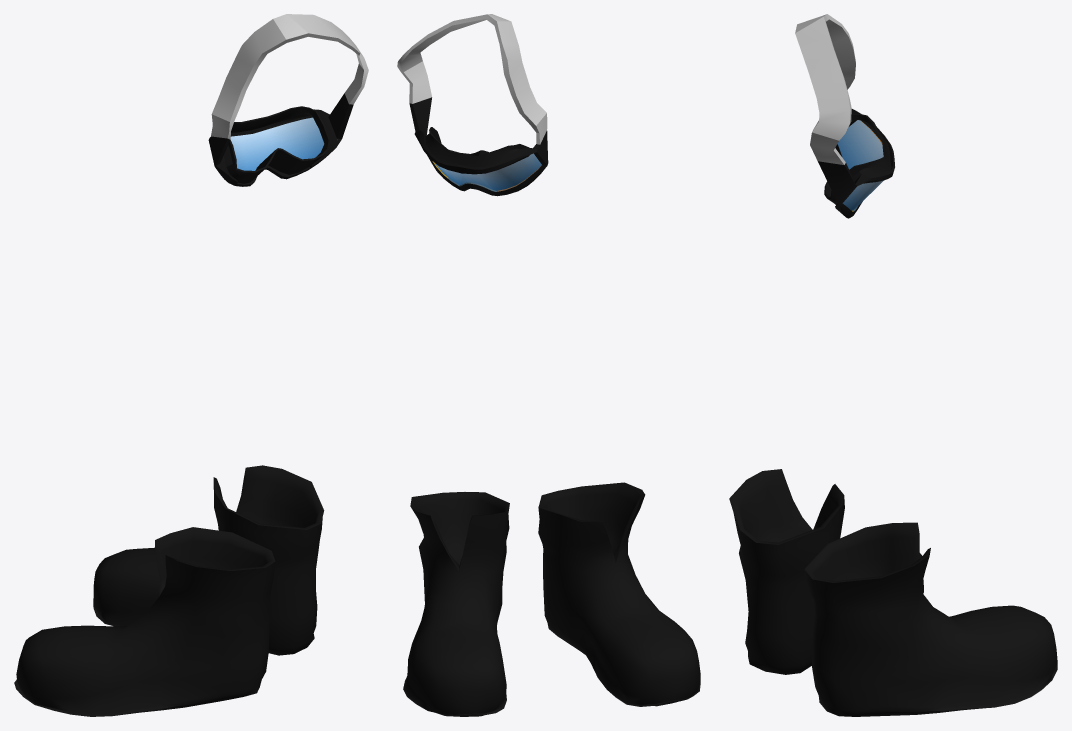
File: Room2_ExtraAssets.fbx
The picture shows the model from 3 angles, left to right: view 1: azimuth 30°, elevation 25°; view 2: azimuth 150°, elevation 25°; view 3: azimuth 270°, elevation 25°; orthographic projection. The views are drawn at different scales.
Parts seen in each view (by area): view 1: ArcticResearcher_NPC_00.002, goggleStrap; view 2: ArcticResearcher_NPC_00.002, goggleStrap; view 3: ArcticResearcher_NPC_00.002, goggleStrap.
Boxes of the visible parts, box(x1,y1,x2,y2) form: ArcticResearcher_NPC_00.002: box(14, 465, 324, 716); goggleStrap: box(208, 14, 368, 186); ArcticResearcher_NPC_00.002: box(403, 482, 700, 716); goggleStrap: box(397, 14, 548, 196); ArcticResearcher_NPC_00.002: box(729, 469, 1057, 716); goggleStrap: box(795, 14, 894, 218).
Bounding box in the file's own units: 0.481 × 0.9177 × 0.3942.
